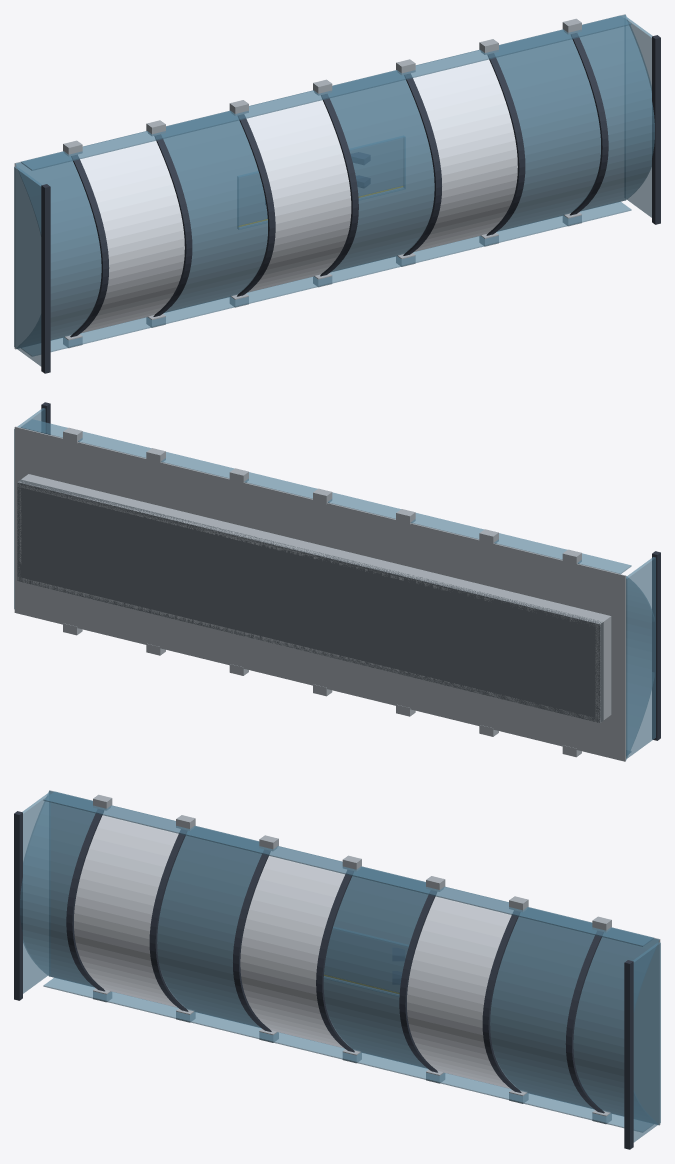
Rendered from suvarnabhumi.glb.
3 renders of one model, top to bottom at view 1: azimuth 30°, elevation 25°; view 2: azimuth 150°, elevation 25°; view 3: azimuth 330°, elevation 25°, orthographic.
Parts seen in each view (by area): view 1: EscalatorAtrium, HelmutJahnConcourseHall, Bay_PTFE_3, Bay_PTFE_1, Bay_PTFE_5, Bay_Glazed_4, Bay_Glazed_6, Bay_Glazed_2, Bay_Glazed_7, Bay_Glazed_0, GableGlazing_-110, GableGlazing_110 (+9 smaller); view 2: StationBoxFoundation, EscalatorAtrium, UndergroundStationBox, HelmutJahnConcourseHall, GableGlazing_-110, Bay_Glazed_0, GableGlazing_110; view 3: EscalatorAtrium, HelmutJahnConcourseHall, Bay_PTFE_3, Bay_PTFE_1, Bay_PTFE_5, Bay_Glazed_4, Bay_Glazed_2, Bay_Glazed_6, Bay_Glazed_0, Bay_Glazed_7, GableGlazing_110, GableGlazing_-110 (+9 smaller).
Part boxes in pixels (x1,y1,x2,y2): EscalatorAtrium: [14, 14, 625, 349]; HelmutJahnConcourseHall: [21, 15, 660, 373]; Bay_PTFE_3: [241, 91, 351, 292]; Bay_PTFE_1: [74, 132, 184, 333]; Bay_PTFE_5: [408, 50, 517, 251]; Bay_Glazed_4: [328, 71, 434, 271]; Bay_Glazed_6: [494, 30, 600, 231]; Bay_Glazed_2: [161, 111, 267, 312]; Bay_Glazed_7: [576, 14, 654, 211]; Bay_Glazed_0: [15, 152, 101, 348]; GableGlazing_-110: [14, 166, 41, 366]; GableGlazing_110: [624, 17, 652, 217]; StationBoxFoundation: [17, 479, 603, 722]; EscalatorAtrium: [14, 426, 625, 761]; UndergroundStationBox: [17, 474, 611, 722]; HelmutJahnConcourseHall: [21, 402, 660, 757]; GableGlazing_-110: [626, 557, 655, 758]; Bay_Glazed_0: [626, 576, 654, 759]; GableGlazing_110: [14, 408, 45, 608]; EscalatorAtrium: [49, 790, 660, 1125]; HelmutJahnConcourseHall: [14, 791, 653, 1149]; Bay_PTFE_3: [240, 847, 349, 1048]; Bay_PTFE_1: [74, 806, 182, 1007]; Bay_PTFE_5: [407, 887, 516, 1088]; Bay_Glazed_4: [323, 867, 429, 1068]; Bay_Glazed_2: [157, 826, 263, 1027]; Bay_Glazed_6: [490, 908, 599, 1108]; Bay_Glazed_0: [20, 790, 96, 987]; Bay_Glazed_7: [573, 928, 659, 1124]; GableGlazing_110: [633, 942, 660, 1142]; GableGlazing_-110: [22, 793, 50, 993].
Bounding box in the file's own units: 222 × 69 × 29.5.
